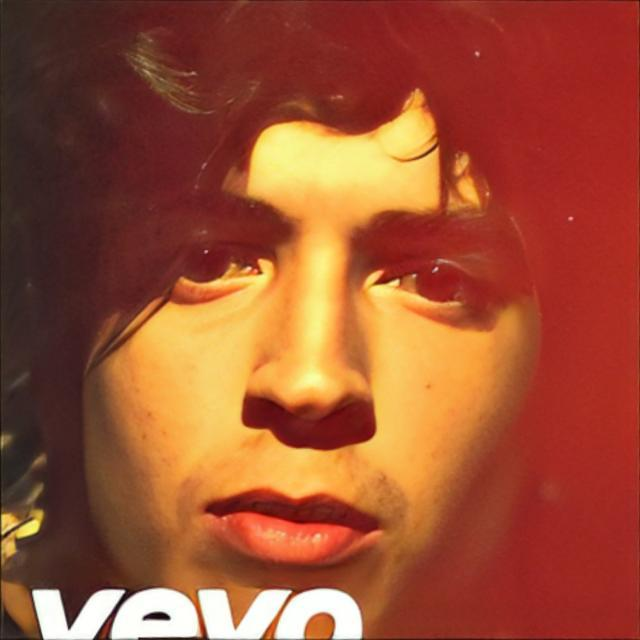fear: (80, 19, 547, 640)
